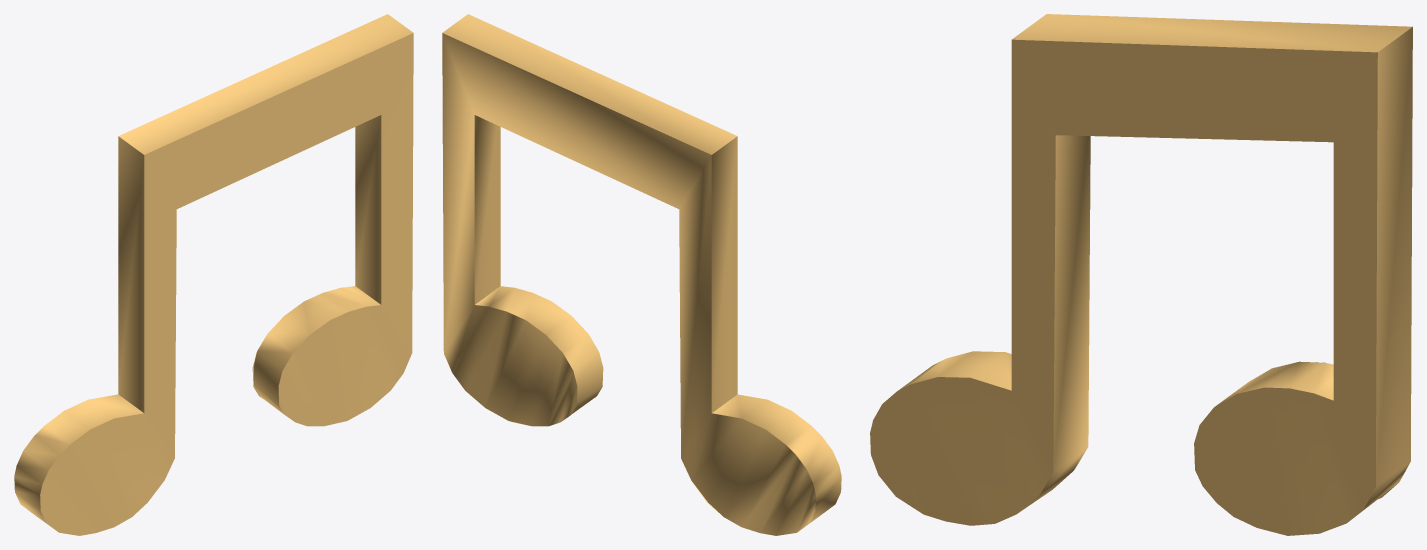
The model's file is MusicalNote_3_Yellow.fbx.
3 views of the same model, side by side, from view 1: azimuth 30°, elevation 25°; view 2: azimuth 150°, elevation 25°; view 3: azimuth 330°, elevation 25° (orthographic). The views are drawn at different scales.
Visible parts, largest first — view 1: MusicalNote_3_Yellow; view 2: MusicalNote_3_Yellow; view 3: MusicalNote_3_Yellow.
Part boxes in pixels (bbox=[...]): MusicalNote_3_Yellow: bbox=[14, 14, 413, 535]; MusicalNote_3_Yellow: bbox=[442, 14, 841, 535]; MusicalNote_3_Yellow: bbox=[870, 14, 1412, 535].
Bounding box in the file's own units: 6.18 × 0.74 × 6.69.
